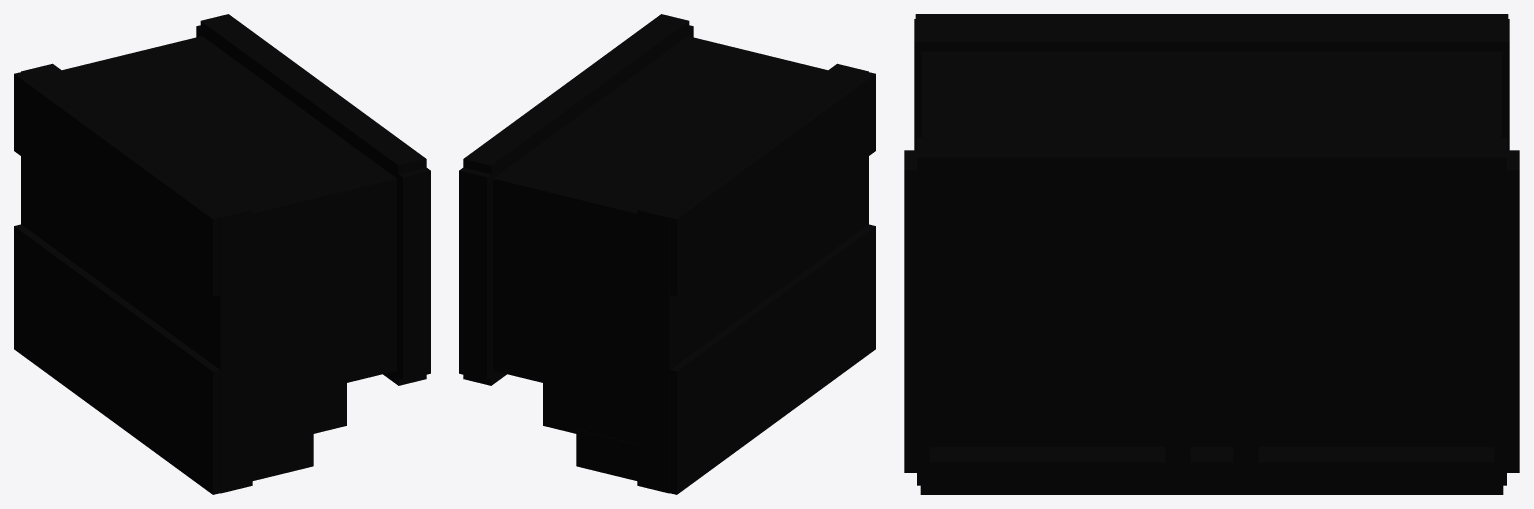
The model's file is bench_boots_5.obj.
The picture shows the model from 3 angles, left to right: view 1: azimuth 30°, elevation 25°; view 2: azimuth 150°, elevation 25°; view 3: azimuth 270°, elevation 25°; orthographic projection. The views are drawn at different scales.
Parts seen in each view (by area): view 1: geometry; view 2: geometry; view 3: geometry.
Boxes of the visible parts, x1=… form: geometry: x1=14, y1=14, x2=430, y2=494; geometry: x1=459, y1=14, x2=875, y2=494; geometry: x1=904, y1=14, x2=1519, y2=494.
Size of the model in its own units: 0.1975 by 0.25 by 0.3301.
